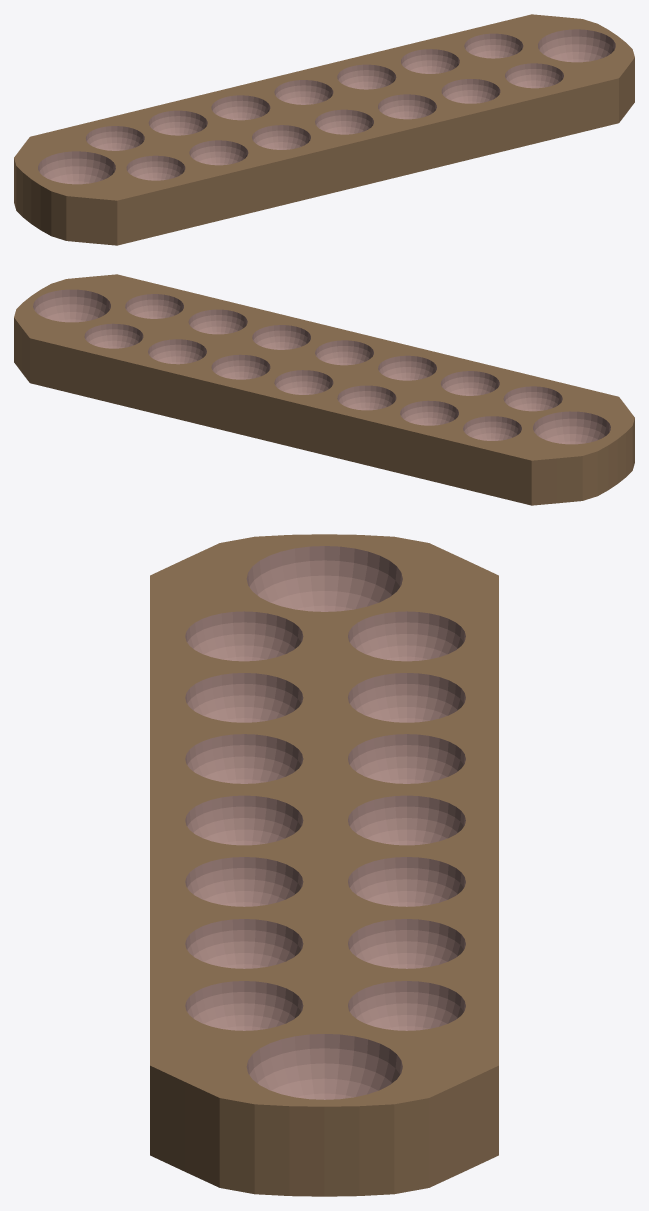
File: congklak.fbx
The picture shows the model from 3 angles, top to bottom: view 1: azimuth 30°, elevation 25°; view 2: azimuth 150°, elevation 25°; view 3: azimuth 270°, elevation 25°; orthographic projection. The views are drawn at different scales.
Parts seen in each view (by area): view 1: Grid, Sphere.015, Sphere.014, Sphere.006, Sphere.010, Sphere.009, Sphere.008, Sphere.013, Sphere.003, Sphere.002, Sphere.001, Sphere.011 (+5 smaller); view 2: Grid, Sphere.015, Sphere.014, Sphere.006, Sphere.005, Sphere.013, Sphere.002, Sphere.010, Sphere.001, Sphere.011, Sphere.003, Sphere.004 (+5 smaller); view 3: Grid, Sphere.014, Sphere.015, Sphere, Sphere.012, Sphere.013, Sphere.001, Sphere.004, Sphere.006, Sphere.007, Sphere.009, Sphere.002 (+5 smaller).
Part boxes in pixels (box(x1,y1,x2,y2)): Grid: box(14, 14, 634, 245); Sphere.015: box(538, 29, 615, 62); Sphere.014: box(38, 151, 115, 184); Sphere.006: box(211, 95, 270, 120); Sphere.010: box(464, 33, 523, 58); Sphere.009: box(189, 140, 248, 165); Sphere.008: box(148, 110, 207, 135); Sphere.013: box(126, 155, 185, 180); Sphere.003: box(378, 94, 436, 119); Sphere.002: box(337, 64, 396, 89); Sphere.001: box(315, 109, 373, 134); Sphere.011: box(505, 63, 563, 88); Grid: box(14, 274, 634, 505); Sphere.015: box(33, 289, 110, 322); Sphere.014: box(533, 411, 610, 444); Sphere.006: box(337, 385, 396, 410); Sphere.005: box(188, 309, 247, 334); Sphere.013: box(503, 386, 562, 411); Sphere.002: box(211, 354, 270, 379); Sphere.010: box(84, 323, 143, 348); Sphere.001: box(315, 340, 373, 365); Sphere.011: box(125, 294, 183, 318); Sphere.003: box(252, 325, 310, 349); Sphere.004: box(148, 339, 206, 364); Grid: box(150, 534, 498, 1196); Sphere.014: box(246, 546, 402, 611); Sphere.015: box(246, 1034, 402, 1099); Sphere: box(348, 795, 465, 845); Sphere.012: box(348, 611, 465, 661); Sphere.013: box(185, 611, 303, 661); Sphere.001: box(185, 795, 303, 845); Sphere.004: box(348, 919, 465, 968); Sphere.006: box(348, 734, 465, 783); Sphere.007: box(185, 734, 303, 783); Sphere.009: box(185, 673, 303, 722); Sphere.002: box(348, 857, 465, 906).
Bounding box in the file's own units: 1016 × 74.4 × 262.
